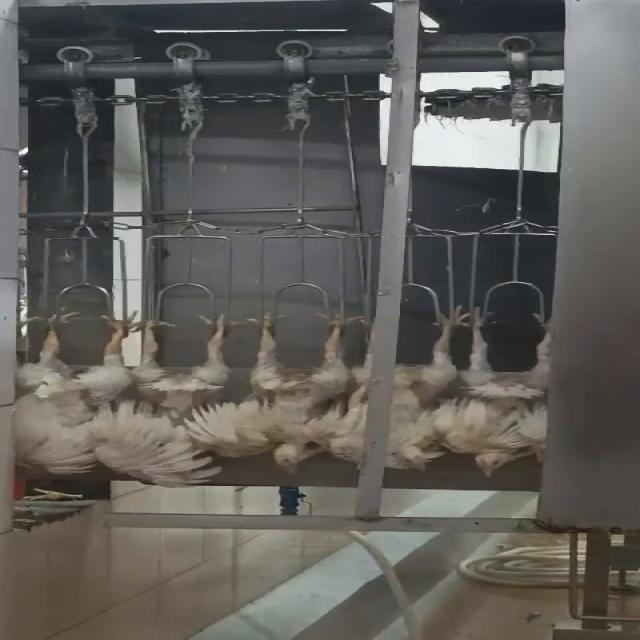chicken: (3, 310, 212, 490), (343, 307, 480, 471), (117, 313, 259, 462), (249, 303, 365, 471), (452, 309, 562, 481)
